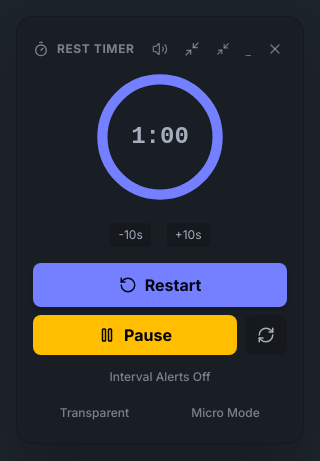
Test: RestTimer › should add 10 seconds when +10s button is clicked
The width and height of the screenshot is (320, 461).
Click the button "+10s". click: (188, 235)
box: [167,223,210,247]
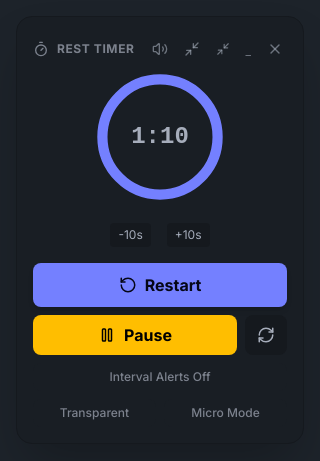
Result: the text "1:10" is shown at [131,121,189,153]
